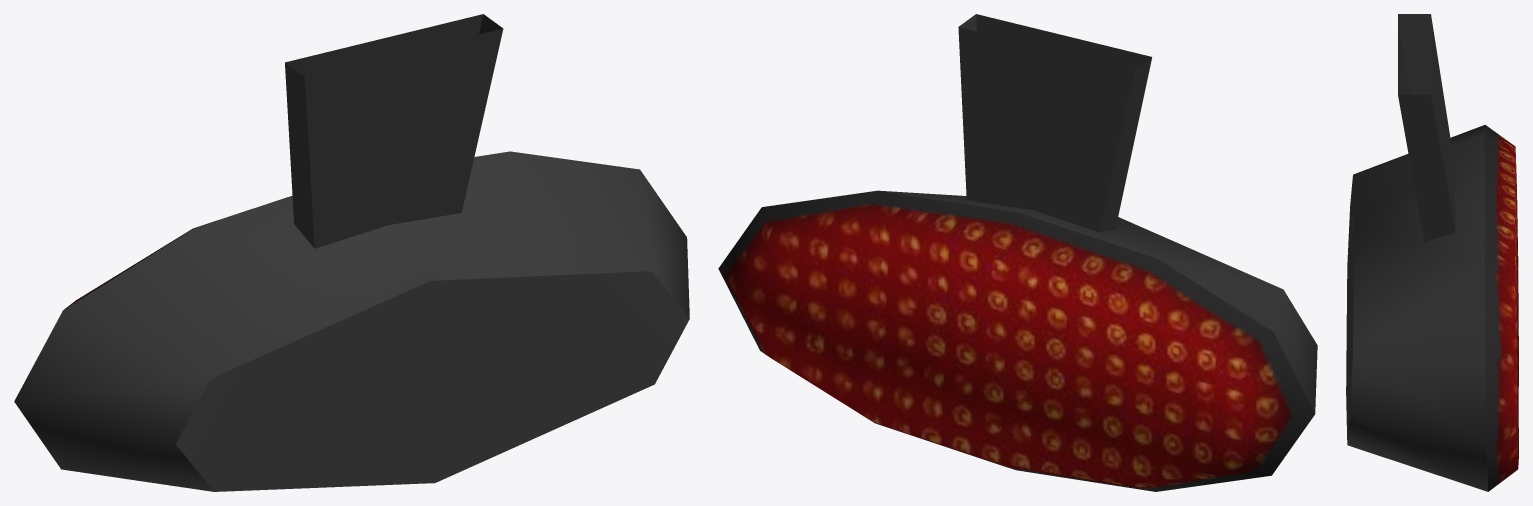
File: BrakeLight.FBX
3 views of the same model, side by side, from view 1: azimuth 30°, elevation 25°; view 2: azimuth 150°, elevation 25°; view 3: azimuth 270°, elevation 25° (orthographic). The views are drawn at different scales.
Visible parts, largest first — view 1: BrackLight; view 2: BrackLight; view 3: BrackLight.
Part boxes in pixels (bbox=[...]): BrackLight: bbox=[14, 14, 689, 491]; BrackLight: bbox=[718, 14, 1317, 491]; BrackLight: bbox=[1346, 14, 1518, 491].
Size of the model in its own units: 0.1864 by 0.1191 by 0.0499.
